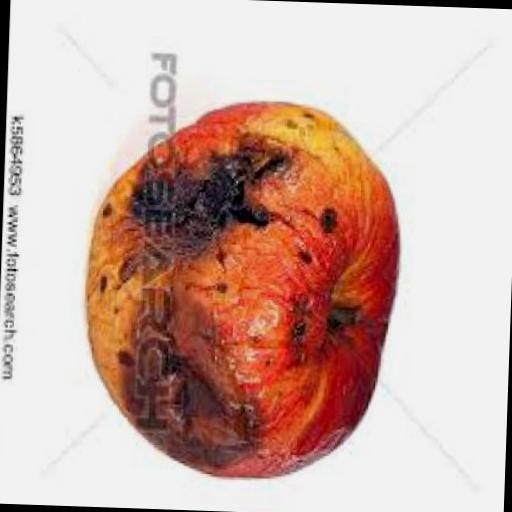biodegradable: (82, 92, 405, 482)
